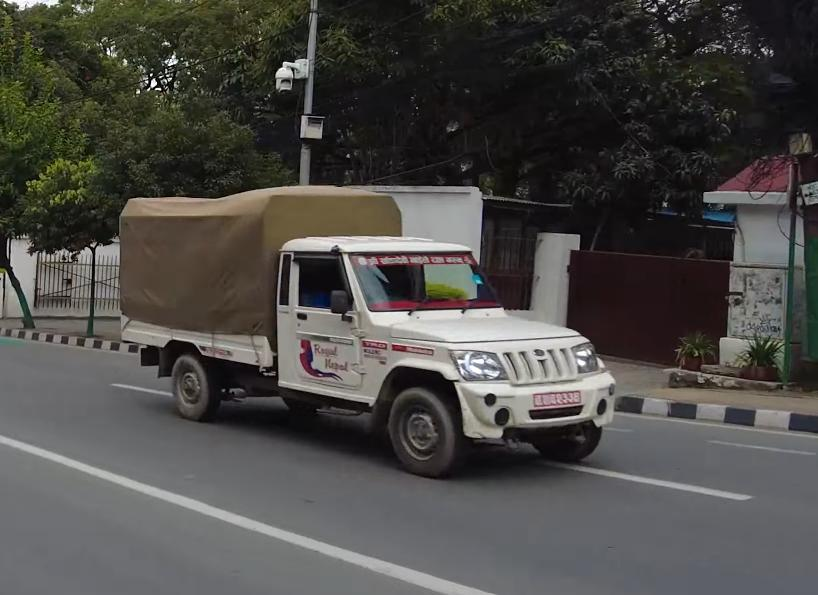transport_vehicle: (109, 174, 623, 486)
